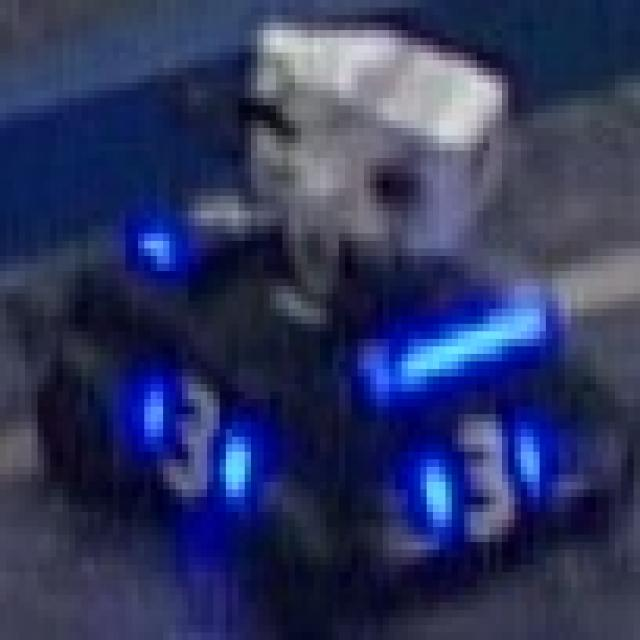B3: (414, 407, 546, 542), (132, 369, 257, 504)
